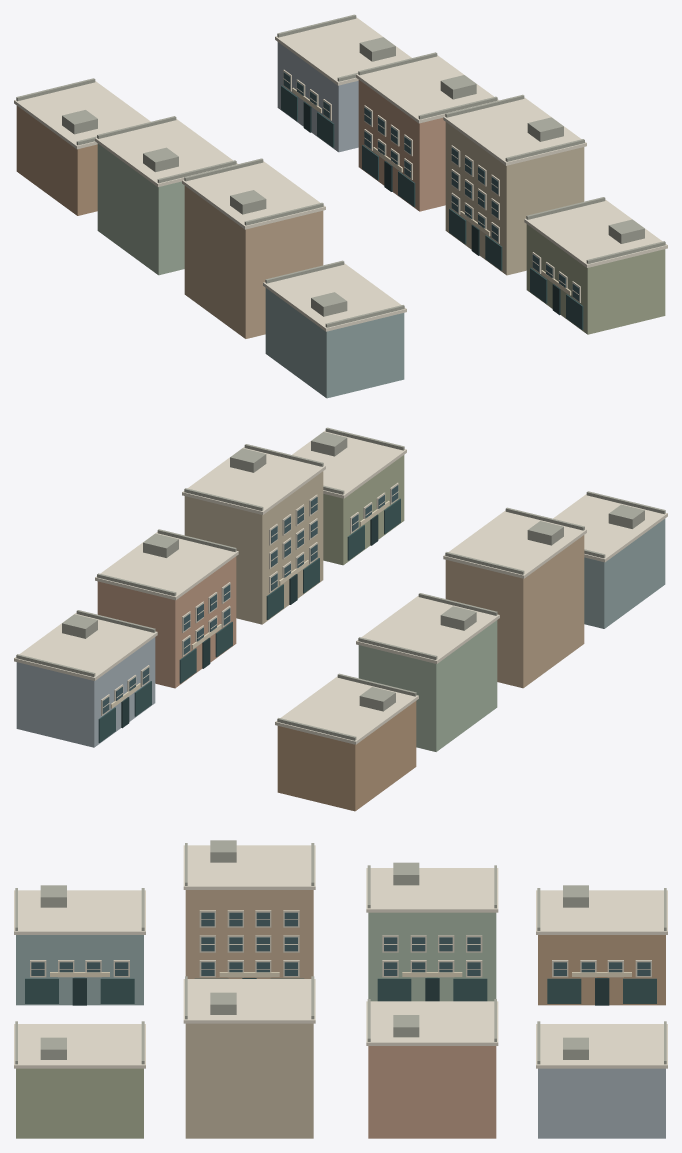
Rendered from buildings.glb.
The picture shows the model from 3 angles, top to bottom: view 1: azimuth 30°, elevation 25°; view 2: azimuth 150°, elevation 25°; view 3: azimuth 270°, elevation 25°; orthographic projection. The views are drawn at different scales.
Visible parts, largest first — view 1: Building_6, Building_2, Building_7, Building_3, Building_5, Building_1, Building_4, Building_0; view 2: Building_6, Building_2, Building_4, Building_0, Building_5, Building_1, Building_7, Building_3; view 3: Building_6, Building_5, Building_1, Building_2, Building_3, Building_0, Building_4, Building_7.
Part boxes in pixels (x1=…): Building_6: x1=443, y1=94, x2=586, y2=275; Building_2: x1=182, y1=158, x2=325, y2=338; Building_7: x1=524, y1=197, x2=667, y2=334; Building_3: x1=263, y1=260, x2=406, y2=398; Building_5: x1=356, y1=52, x2=498, y2=211; Building_1: x1=95, y1=116, x2=237, y2=275; Building_4: x1=275, y1=14, x2=411, y2=152; Building_0: x1=14, y1=78, x2=150, y2=215; Building_6: x1=182, y1=444, x2=325, y2=624; Building_2: x1=443, y1=507, x2=586, y2=688; Building_4: x1=14, y1=610, x2=157, y2=747; Building_0: x1=275, y1=673, x2=418, y2=811; Building_5: x1=95, y1=529, x2=238, y2=688; Building_1: x1=356, y1=593, x2=499, y2=751; Building_7: x1=292, y1=427, x2=406, y2=565; Building_3: x1=553, y1=491, x2=667, y2=628; Building_6: x1=183, y1=976, x2=315, y2=1138; Building_5: x1=366, y1=999, x2=498, y2=1138; Building_1: x1=366, y1=862, x2=498, y2=1001; Building_2: x1=183, y1=840, x2=315, y2=978; Building_3: x1=14, y1=885, x2=145, y2=1005; Building_0: x1=536, y1=885, x2=667, y2=1005; Building_4: x1=536, y1=1021, x2=667, y2=1138; Building_7: x1=14, y1=1021, x2=145, y2=1138.
Bounding box in the file's own units: 31.7 × 10.95 × 50.1.
